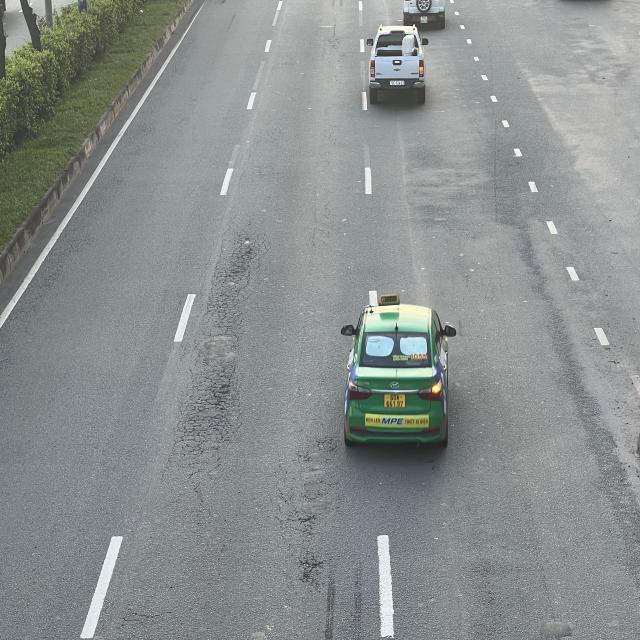car: (338, 300, 456, 448), (366, 24, 430, 103)
